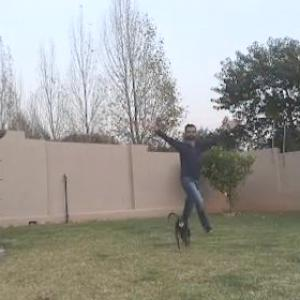takeoff: (113, 109, 212, 235)
